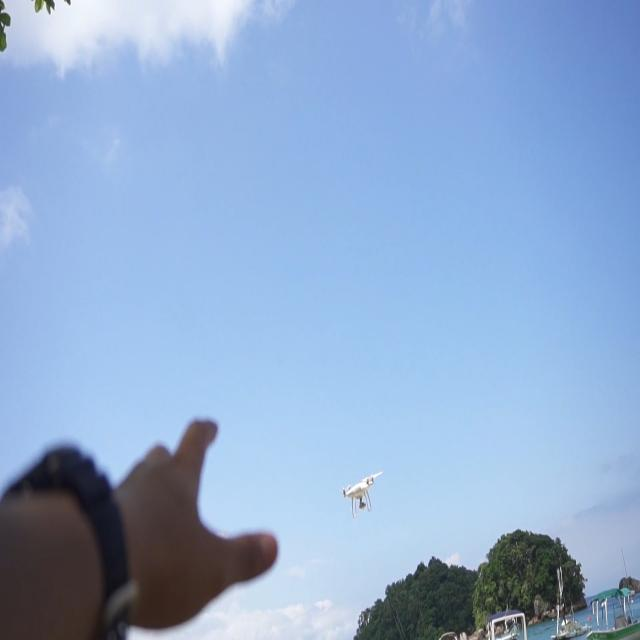Drone: (341, 472, 383, 519)
